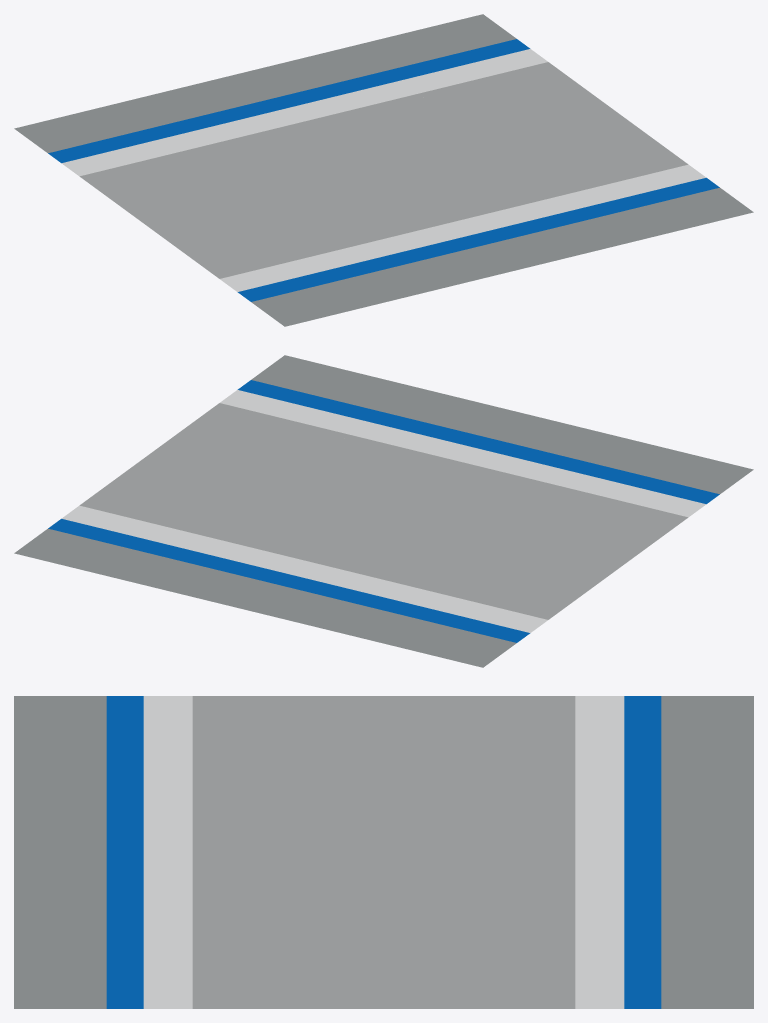
The model's file is Ceiling_type_A_009.fbx.
3 renders of one model, top to bottom at view 1: azimuth 30°, elevation 25°; view 2: azimuth 150°, elevation 25°; view 3: azimuth 270°, elevation 25°, orthographic. The views are drawn at different scales.
Parts seen in each view (by area): view 1: Ceiling_type_A_009; view 2: Ceiling_type_A_009; view 3: Ceiling_type_A_009.
Boxes of the visible parts, box(x1,y1,x2,y2) form: Ceiling_type_A_009: box(14, 14, 753, 326); Ceiling_type_A_009: box(14, 355, 753, 667); Ceiling_type_A_009: box(14, 696, 753, 1008).
Size of the model in its own units: 400 by 400 by 4.55.
